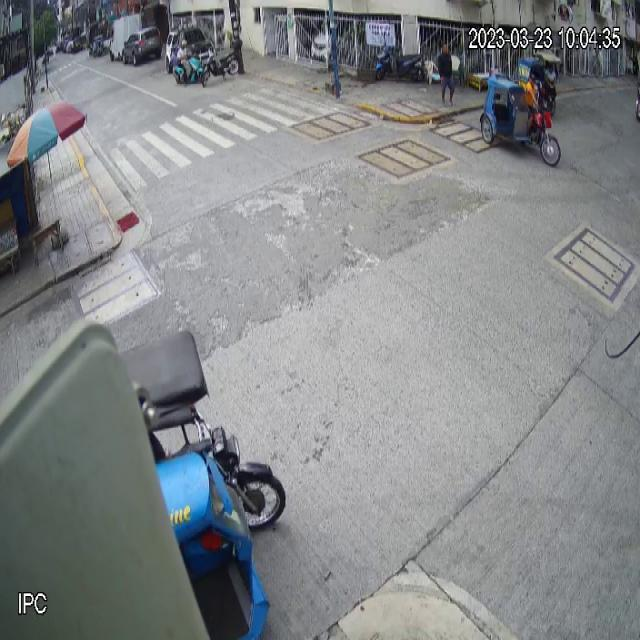Tricycle: (120, 320, 290, 640), (478, 72, 562, 169)
